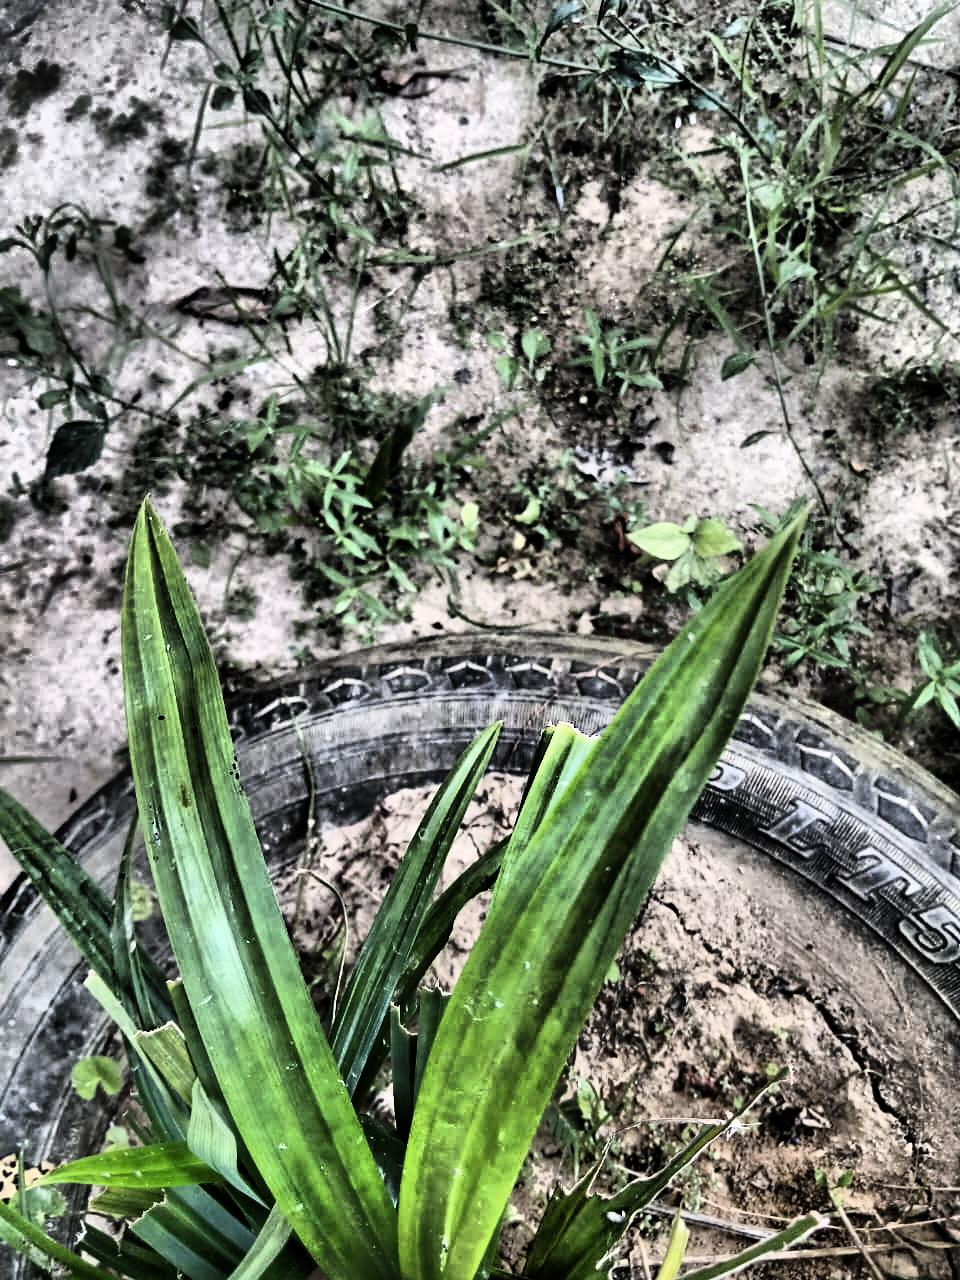daun pandan: (122, 501, 802, 1279)
